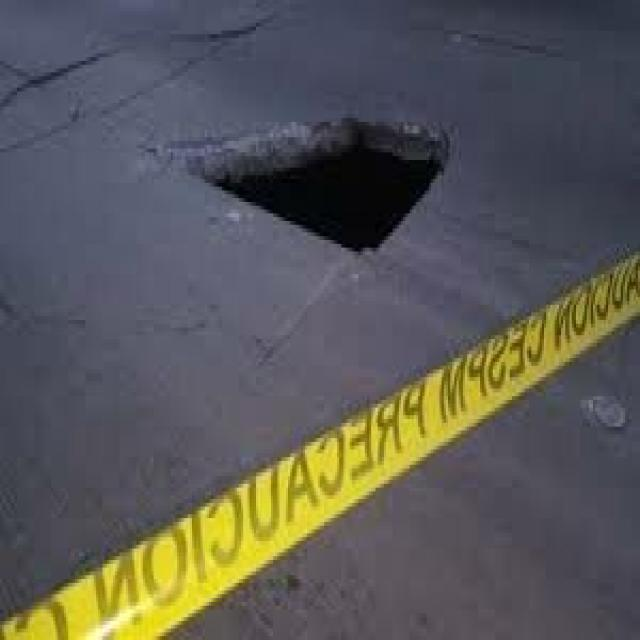Buraco: (138, 114, 464, 262)
